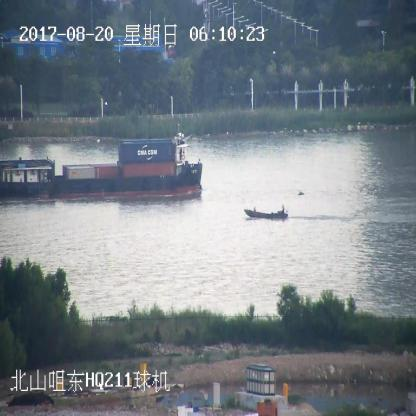Fishing Boat: (245, 204, 287, 222)
